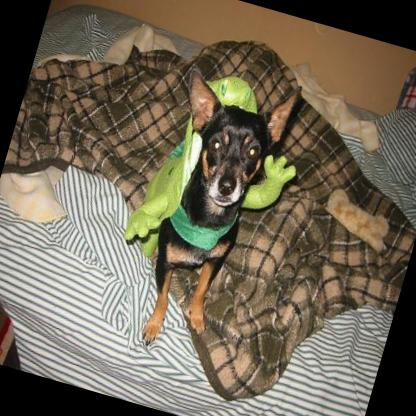miniature_pinscher: (113, 53, 303, 368)
